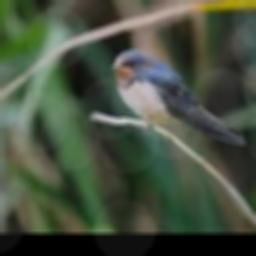Swallow: (113, 50, 250, 145)
